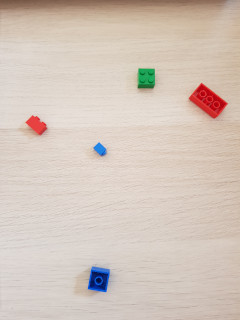1x1 blue: (93, 142, 109, 157)
1x2 red: (25, 115, 49, 136)
2x2 blue: (88, 266, 110, 294)
2x2 green: (137, 68, 156, 89)
2x4 red: (189, 83, 229, 120)
